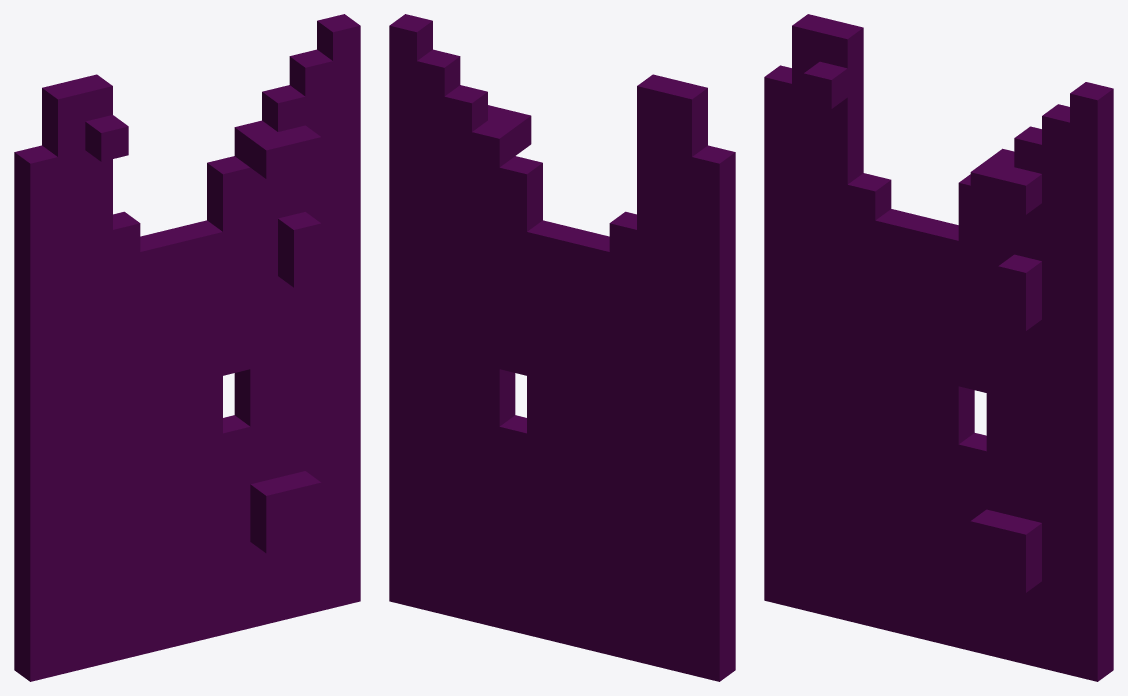
File: wall4.obj
3 views of the same model, side by side, from view 1: azimuth 30°, elevation 25°; view 2: azimuth 150°, elevation 25°; view 3: azimuth 330°, elevation 25° (orthographic).
Size of the model in its own units: 1.2 by 2 by 0.2.
1 material, 1 textured.
